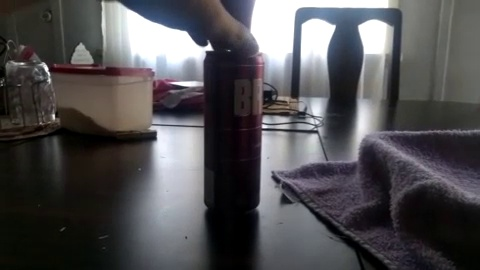duplo_malte: (192, 37, 273, 226)
